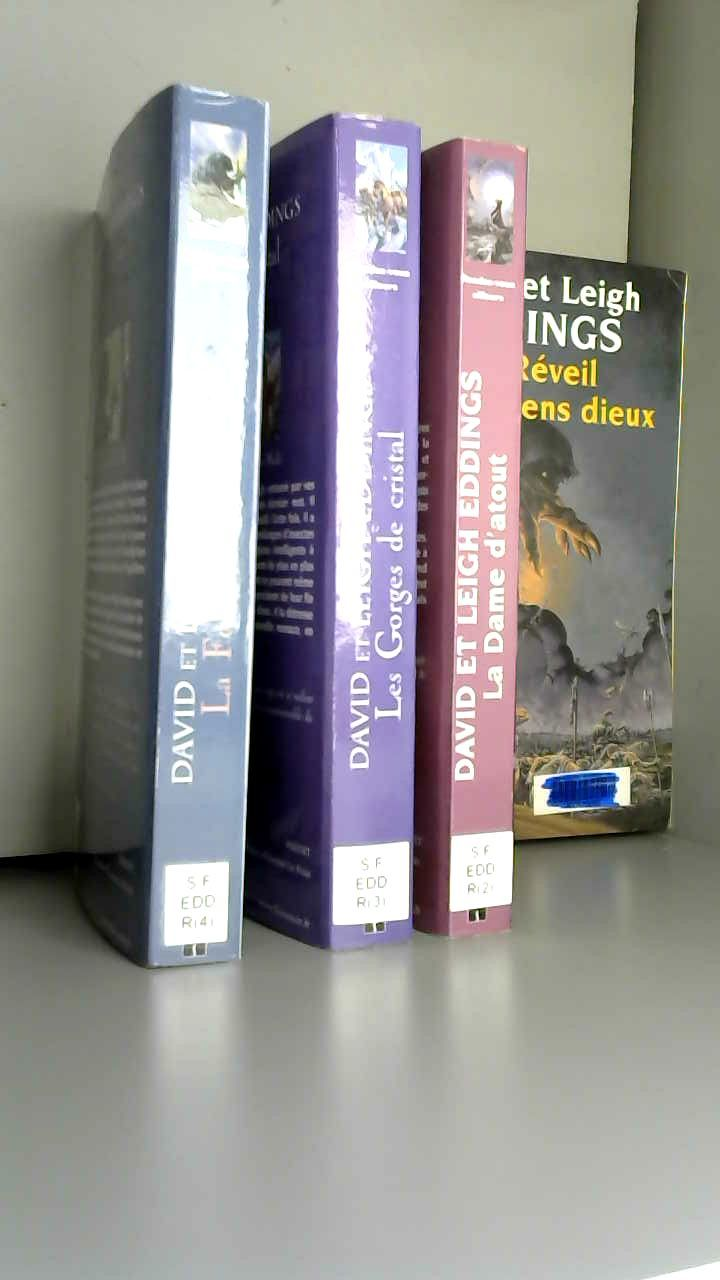book: (130, 60, 719, 941)
